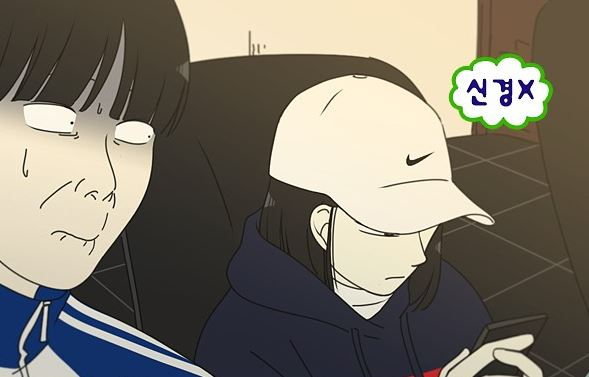hat: (260, 66, 501, 234)
